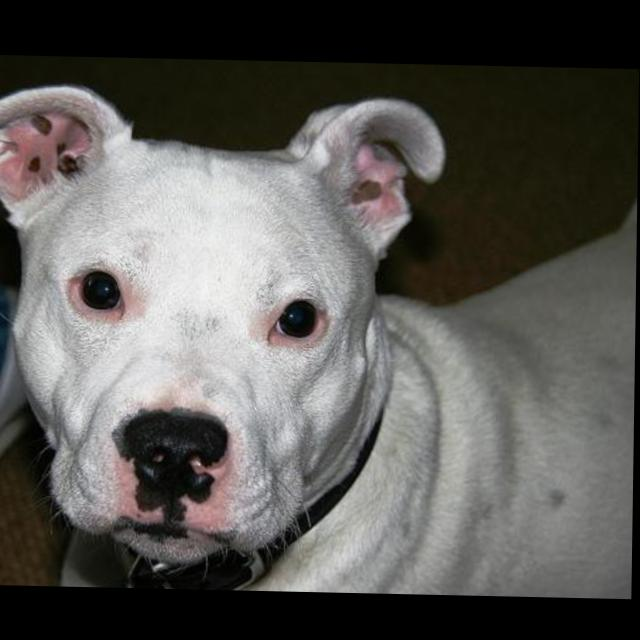amstaff: (1, 82, 640, 597)
